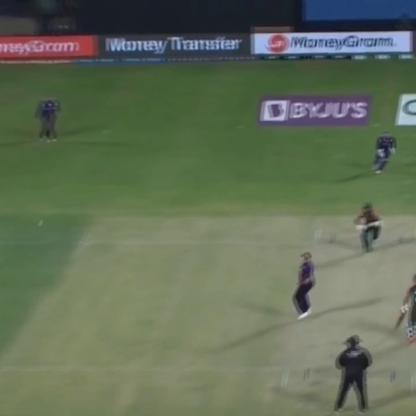ball: (29, 214, 47, 230)
pitch: (277, 212, 415, 414)
